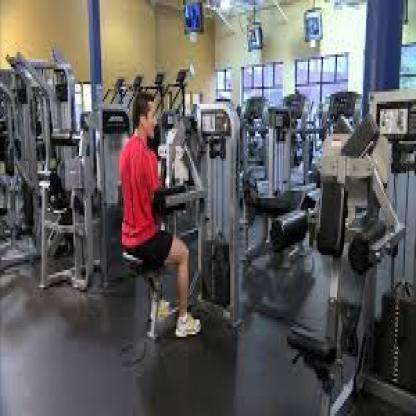lateral raises machine: (128, 104, 241, 340)
